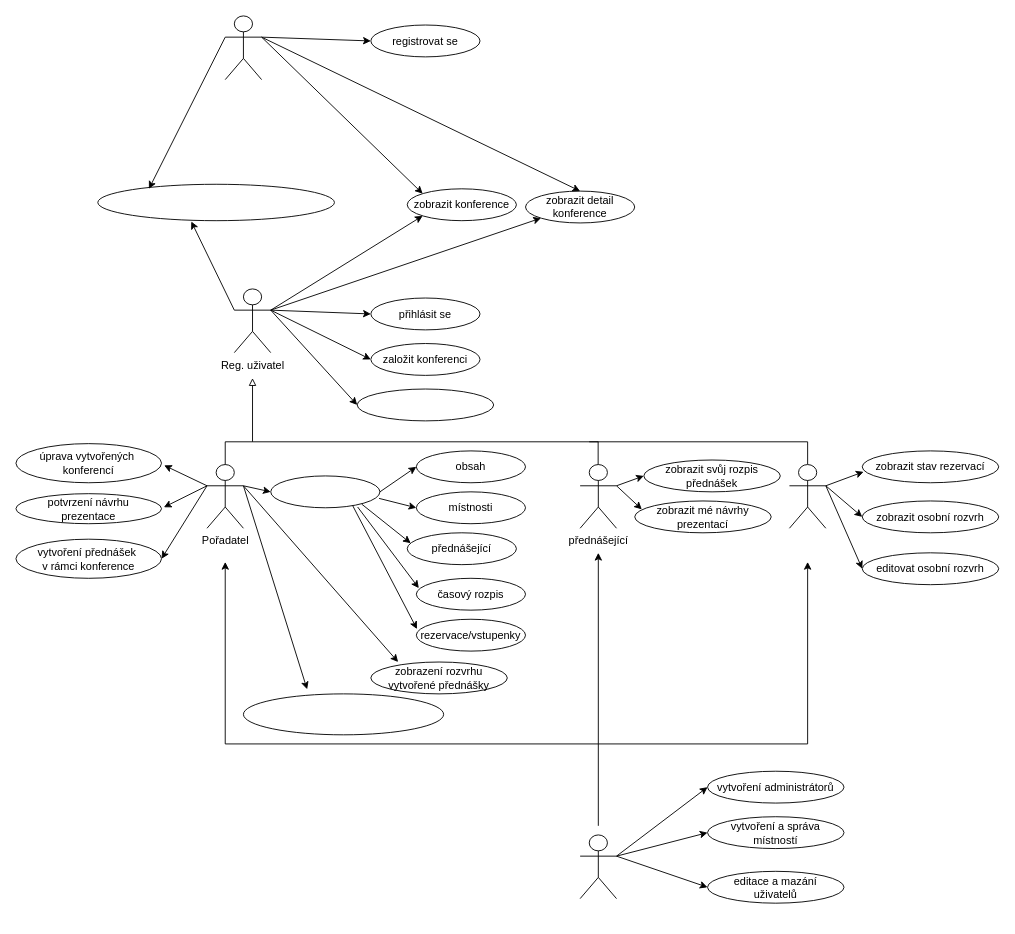
This 1015x934 diagram has some shape labels left out. The shapes that lost their labels are listed below. From the top down, each one's centre as x and y in pixels, then its label:
At (243,47): "Nereg. uživatel".
At (215,202): "rezervovat vstupenku/y na konferenci".
At (425,404): "Zaslat návrh ppt ke konferenci".
At (325,491): "spravovat konferenci".
At (807,496): "návštěvník".
At (343,714): "potvrzení zaplacení rezervace se zaplacením na místě".
At (598,866): "administrátor".
